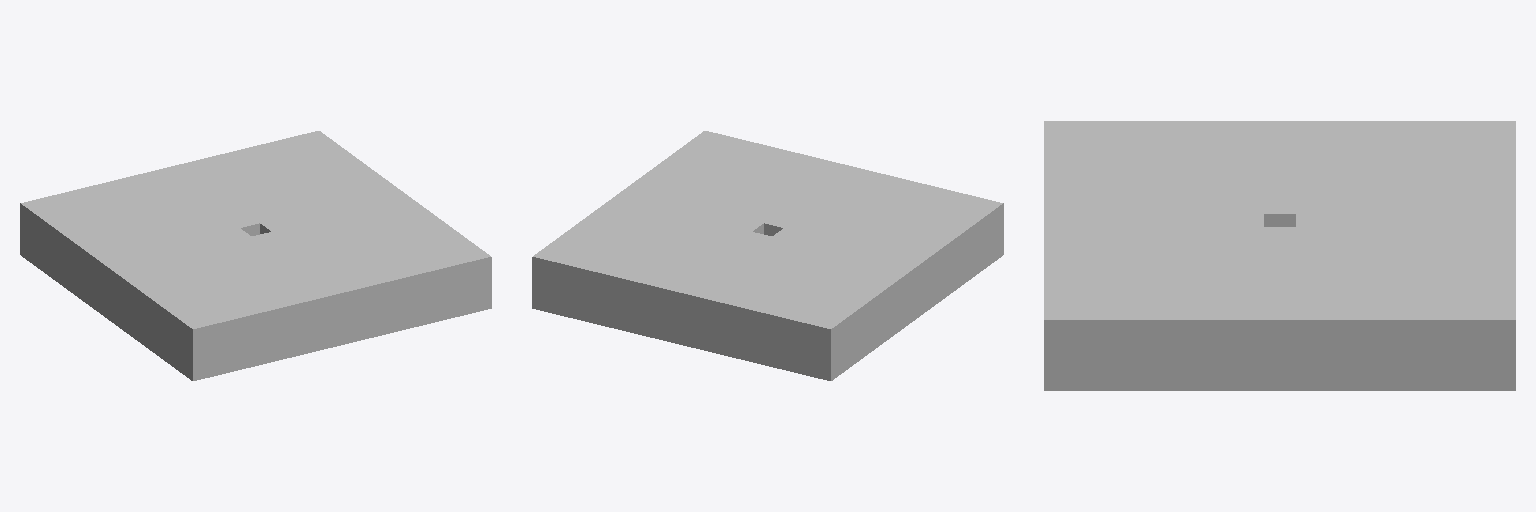
URDF robot description (square_20mm.urdf):
<?xml version="0.0" ?>
<robot name="square_20mm.urdf">
  <link name="base">
    <inertial>
      <origin rpy="0 0 0" xyz="0 0 0"/>
      <mass value="0.0"/>
      <inertia ixx="0.03" ixy="0" ixz="0" iyy="0.03" iyz="0" izz="0.005"/>
    </inertial>
  </link>

  <joint name="empty" type="fixed">
    <parent link="base"/>
    <child link="box"/>
  </joint>

  <link name="box">
    <inertial>
      <origin rpy="3.14159 0 0" xyz="0 0 0.0"/>
      <mass value="0"/>
      <inertia ixx="0.001" ixy="0" ixz="0" iyy="0.001" iyz="0" izz="0.001"/>
    </inertial>
     
     <visual>
      <origin rpy="1.57075 0 0" xyz="0 0 0"/>
      <geometry>
        <mesh filename="stl/visual/square_20mm.STL" scale="0.002 0.002 0.002"/>
      </geometry>
       <material name="white">
        <color rgba="0.8 0.8 0.8 1"/>
      </material>
    </visual>
    
    <collision concave="yes">
      <origin rpy="1.57075 0 0" xyz="0 0 0"/>
      <geometry>
           <mesh filename="stl/collision/square_20mm.STL" scale="0.002 0.002 0.002"/>
      </geometry>
    </collision>
  </link>
</robot>

--- Render facts (derived) ---
3 views of the same robot in one strip: view 1: azimuth 30°, elevation 25°; view 2: azimuth 150°, elevation 25°; view 3: azimuth 270°, elevation 25° (orthographic).
Model square_20mm.urdf with 2 links and 1 joints (1 fixed), rooted at base, posed all joints at 0.
Links seen in each view (by area): view 1: box; view 2: box; view 3: box.
Boxes of the visible links, x1,y1,x2,y2 form: box: (20,131,491,380); box: (532,131,1003,380); box: (1044,121,1515,390).
Bounding box of the posed robot: 0.6 × 0.6 × 0.1 m (x, y, z).
Meshes: 1 distinct files referenced, 1 mesh visuals loaded (1 binary STL).